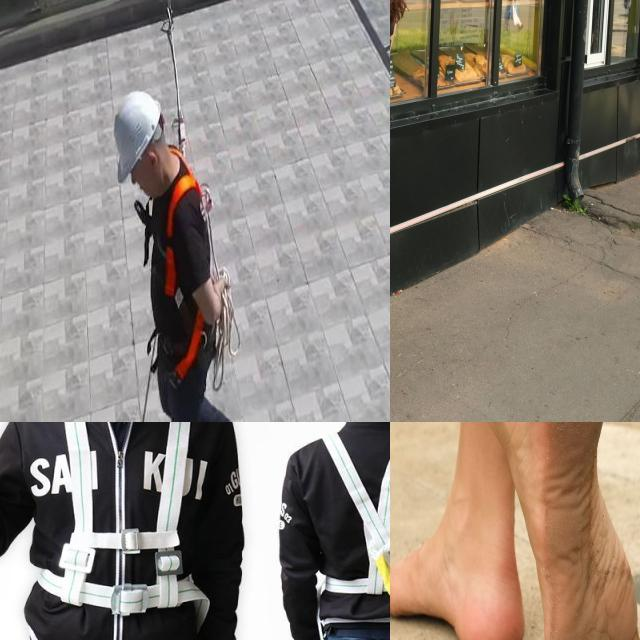Barefoots: (536, 422, 640, 640), (390, 539, 524, 640)
Harness: (41, 422, 204, 640), (314, 428, 390, 640), (165, 176, 206, 383)
